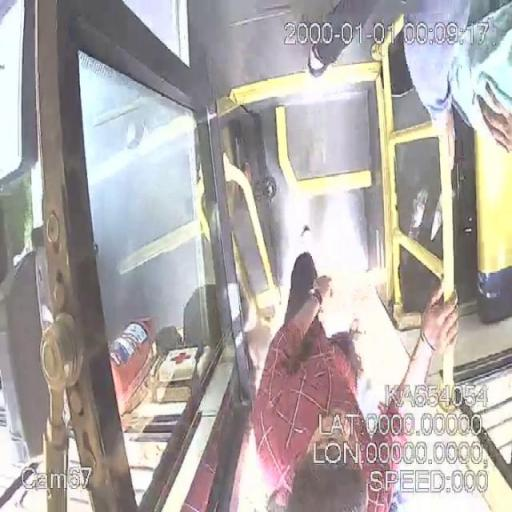persona: (249, 250, 460, 511)
